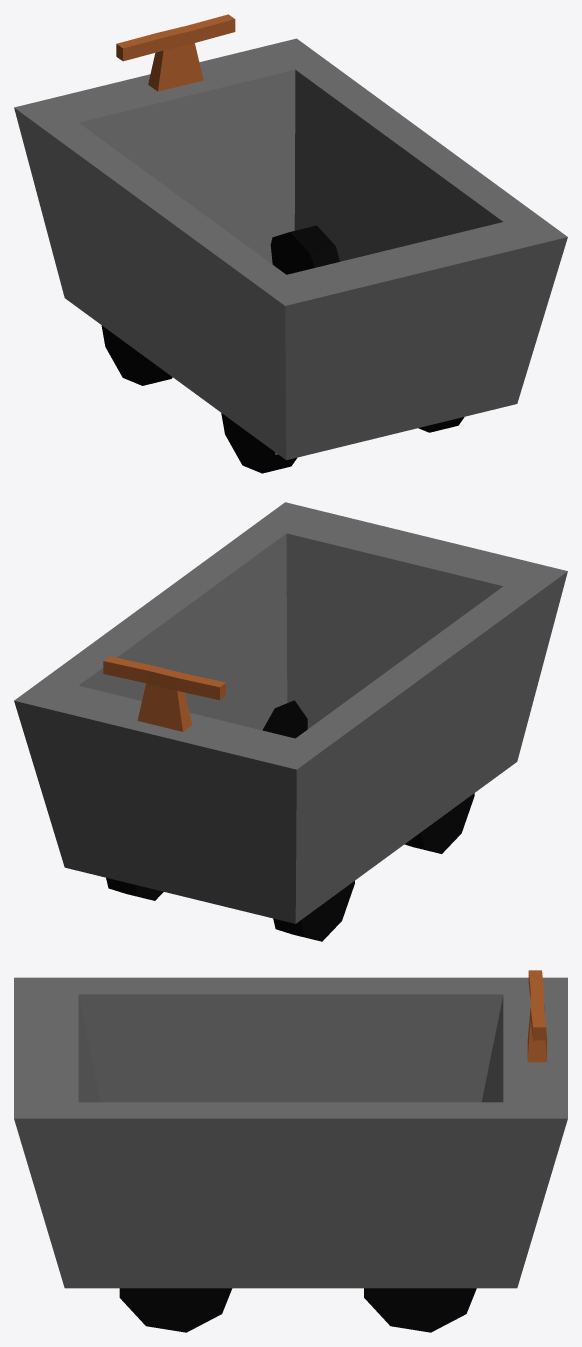
Rendered from binilen_vagon.fbx.
3 renders of one model, top to bottom at view 1: azimuth 30°, elevation 25°; view 2: azimuth 150°, elevation 25°; view 3: azimuth 270°, elevation 25°, orthographic. The views are drawn at different scales.
Visible parts, largest first — view 1: Plane; view 2: Plane; view 3: Plane.
Part boxes in pixels (x1,y1,x2,y2): Plane: (14, 14, 567, 473); Plane: (14, 502, 567, 941); Plane: (14, 970, 567, 1332).
Size of the model in its own units: 245 by 234 by 407.
